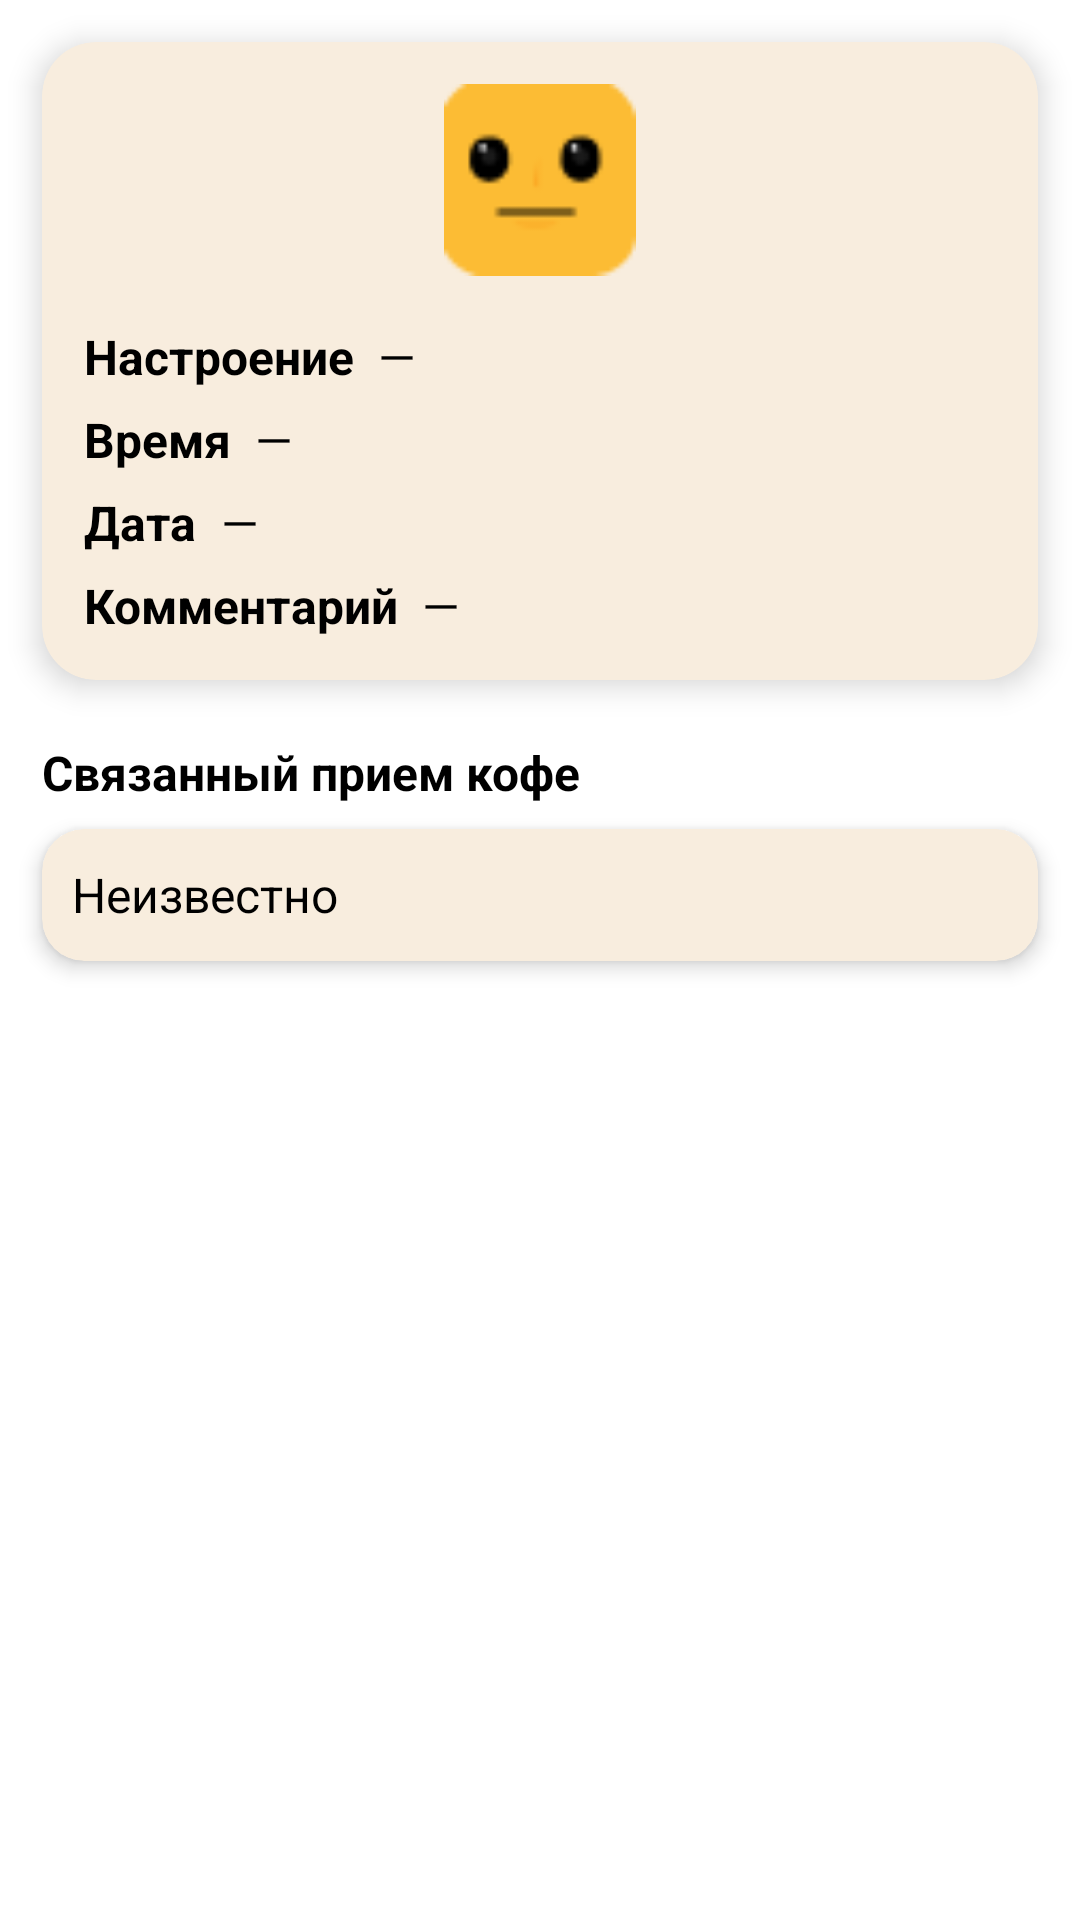

Where to tap for icons on this 1080×1920 app screen, as [x,y]:
mood: [540,180]
